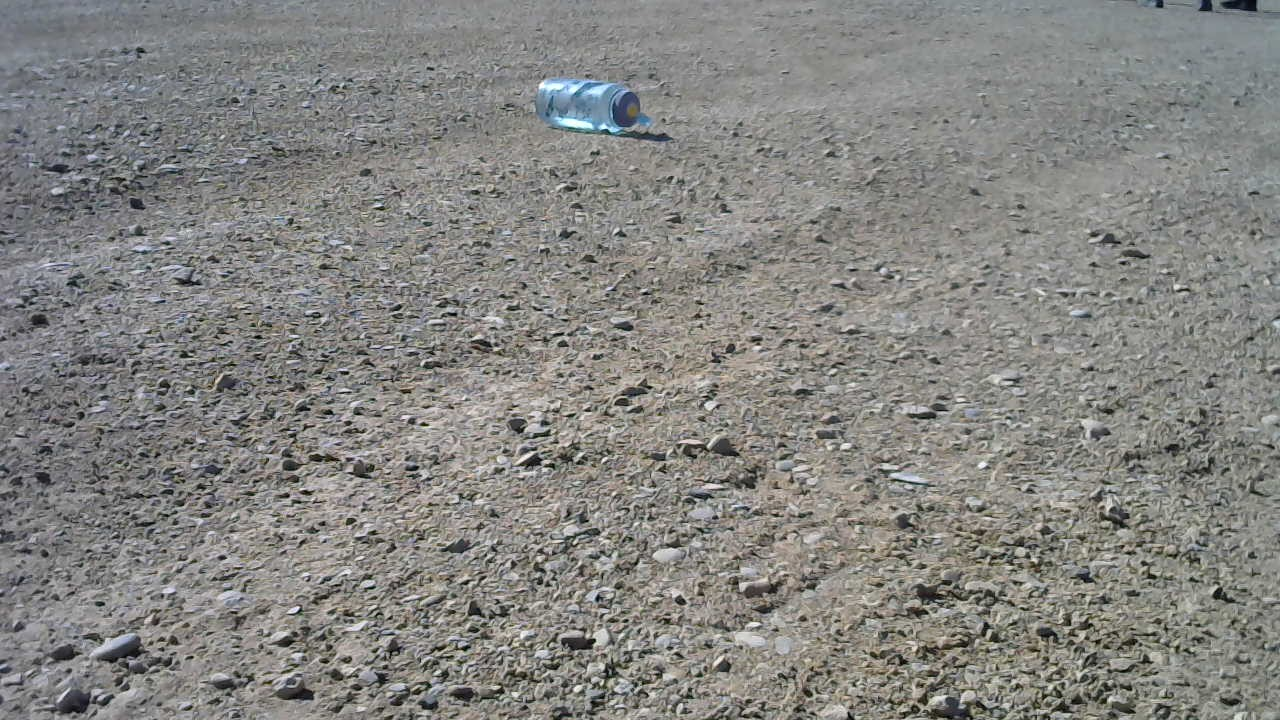bottle: (531, 70, 656, 143)
